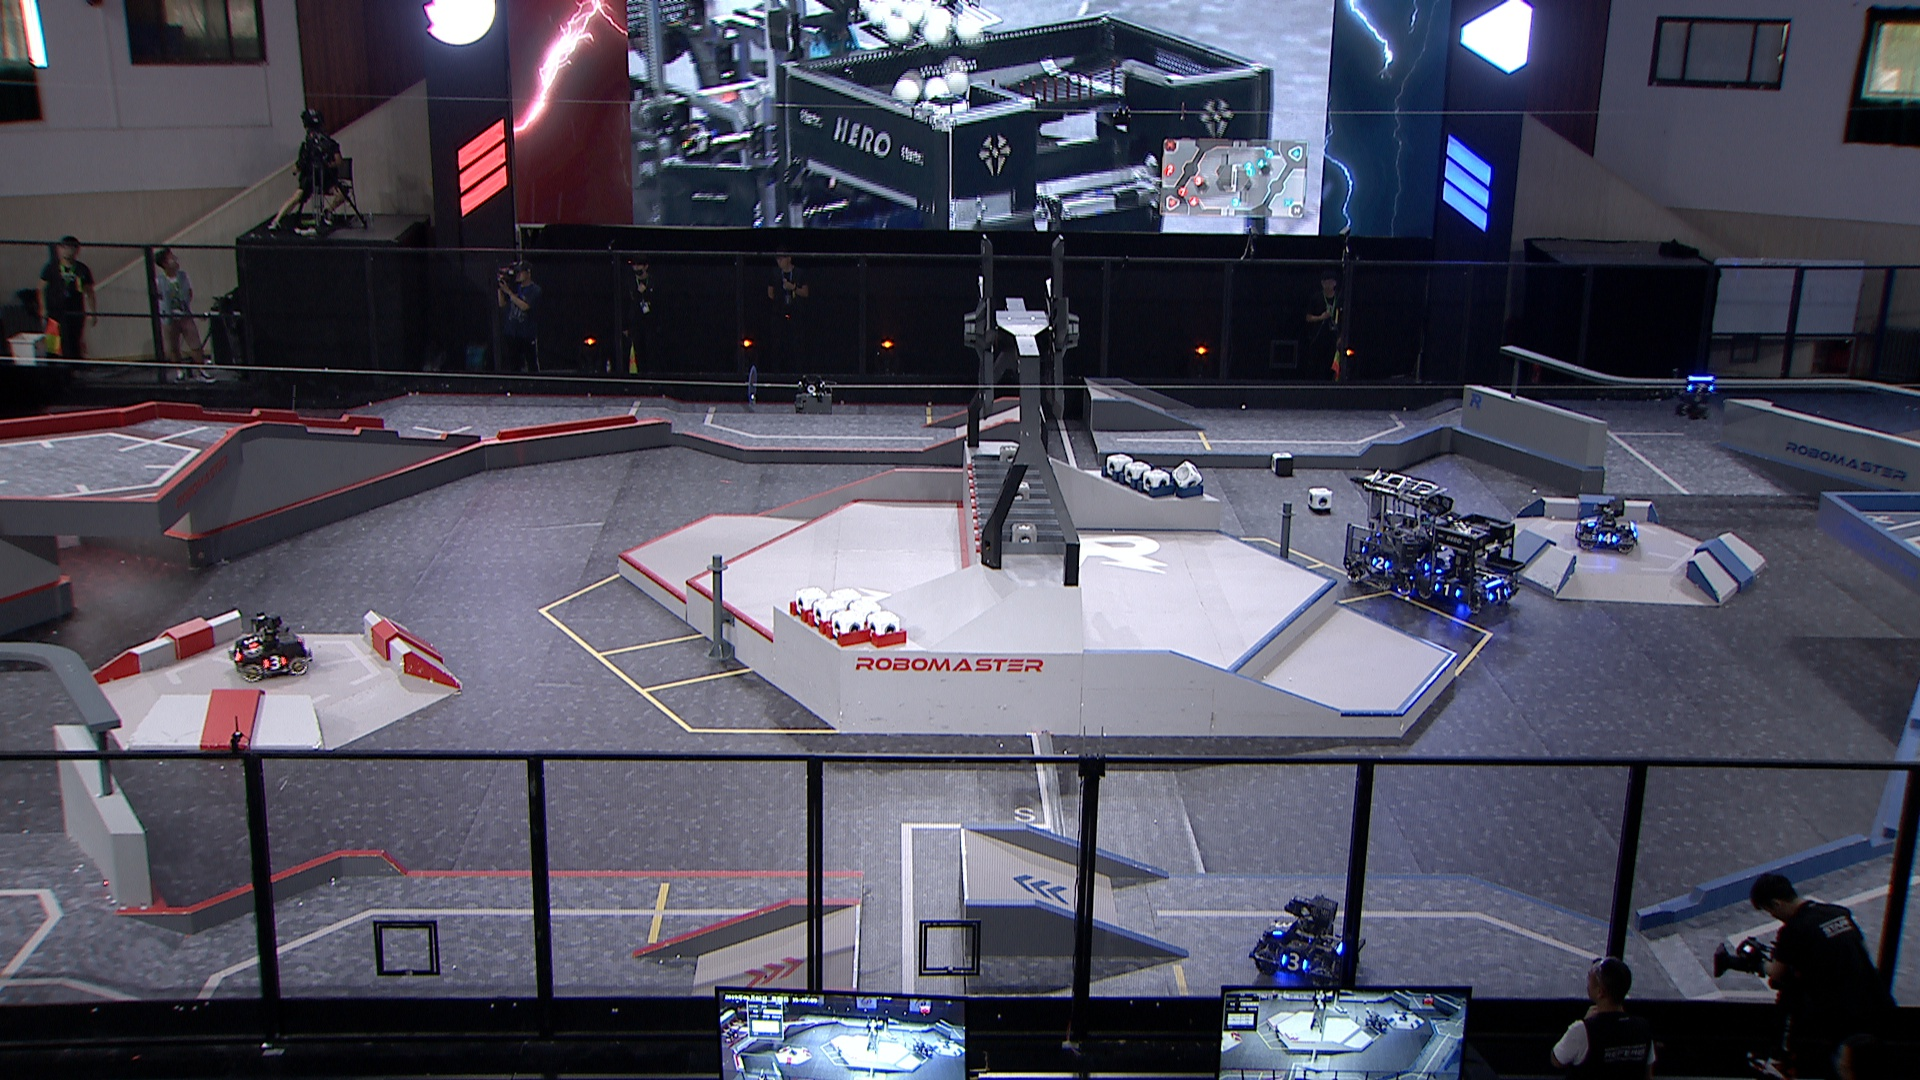armor: (1278, 951, 1309, 973), (1433, 582, 1462, 600), (1271, 916, 1295, 939), (261, 654, 286, 671), (1687, 382, 1717, 396), (1486, 585, 1509, 603), (1370, 556, 1394, 572), (1596, 531, 1618, 546), (240, 633, 262, 647), (231, 645, 243, 665), (1584, 517, 1598, 527)
car: (1342, 469, 1452, 595), (1245, 894, 1366, 988), (1414, 514, 1523, 616), (225, 613, 309, 683), (1575, 500, 1640, 555)
ignore: (769, 12, 1271, 233)
watcher: (1669, 368, 1717, 422)
